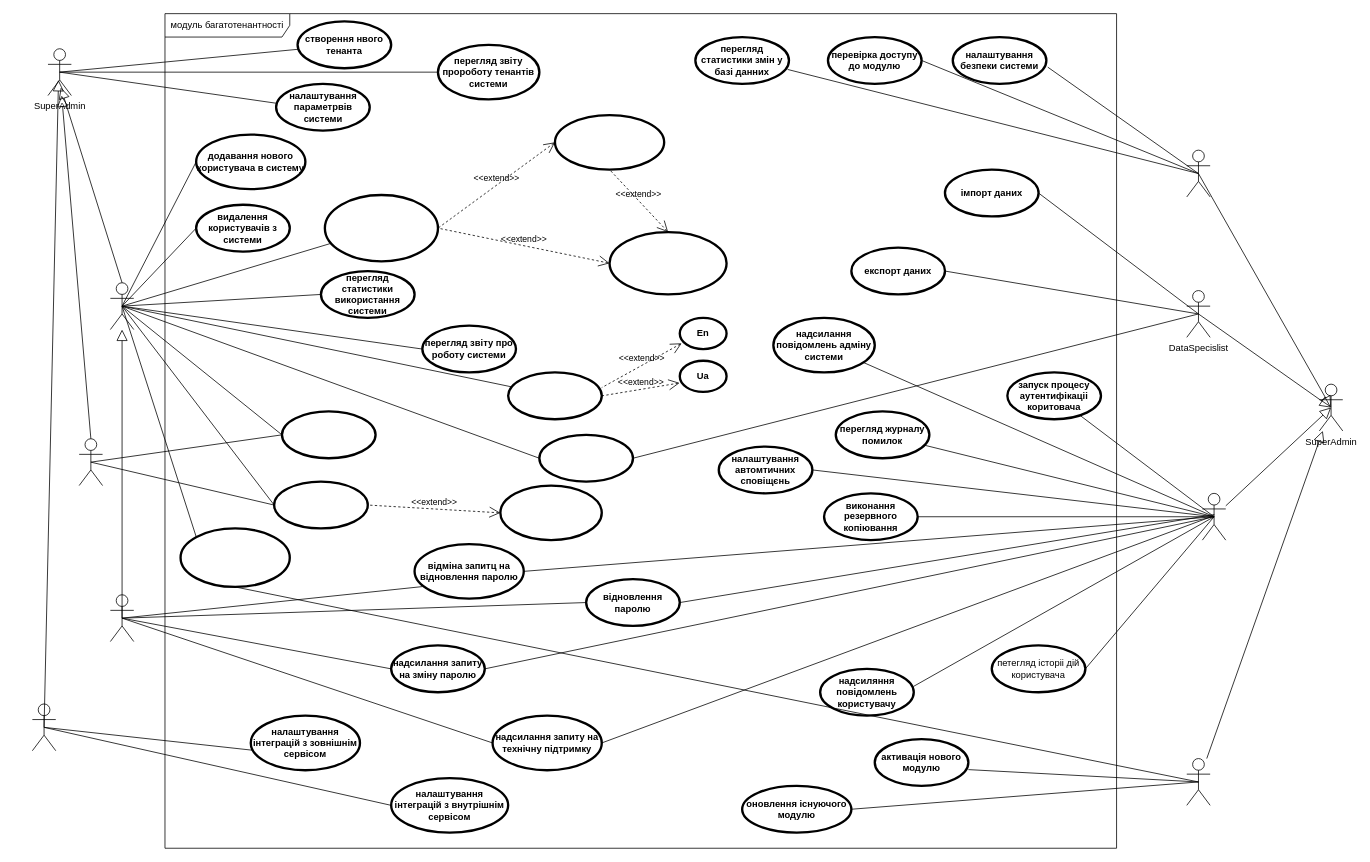
Some shapes in this 1370 by 862 pixel diagram are drawn without their labels. The shapes that lost their labels are listed below. From the top down, each one's centre as x and y in pixels, then its label:
(x=609, y=141): відкриття збереженного документу в системі
(x=1198, y=173): SecurityAuditor
(x=381, y=227): створення та збереження нового документу в системі
(x=667, y=262): підписання документу електронним підписом
(x=122, y=306): TenantAdmin
(x=555, y=395): налаштування мовних правил
(x=328, y=434): налаштування прав доступу користувачів
(x=90, y=462): AccessConrolManager
(x=586, y=457): створення звіту
(x=321, y=504): надання прав доступу до модулю
(x=551, y=512): надання прав доступу до конктетних функцій модулю
(x=1214, y=516): TenantSupport
(x=235, y=557): перегляд списку доступних модулів
(x=122, y=618): TenantUser
(x=44, y=727): IntegrationDev
(x=1198, y=781): ModulManager
